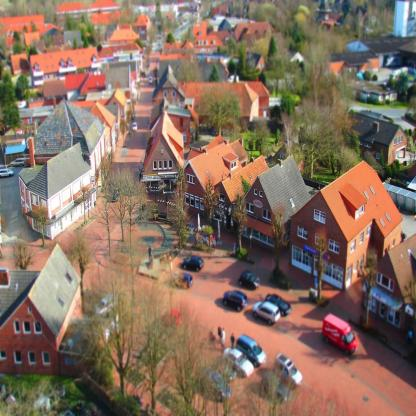Car: (226, 346, 253, 376), (280, 354, 298, 392), (261, 292, 291, 313), (256, 302, 280, 327), (225, 290, 243, 312), (181, 258, 204, 273), (241, 273, 260, 291), (176, 276, 194, 286)
